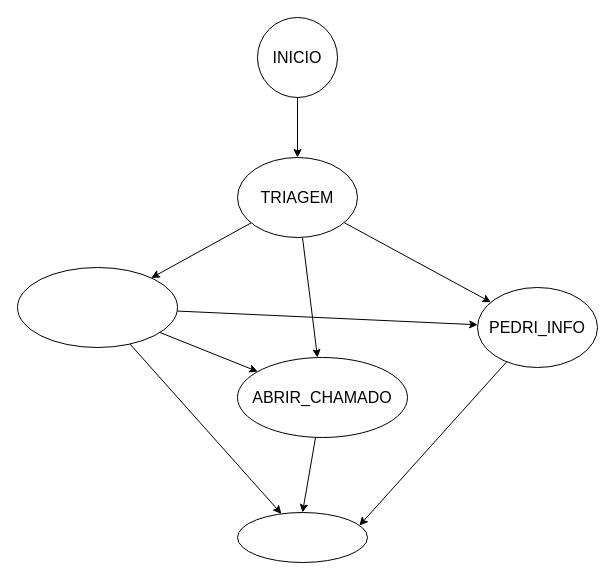
Some shapes in this 615 by 580 pixel diagram are drawn without their labels. Each missing label, with the box of its shape:
AUTO_RESOLVER: (16, 266, 178, 348)
FIM: (236, 512, 368, 562)
